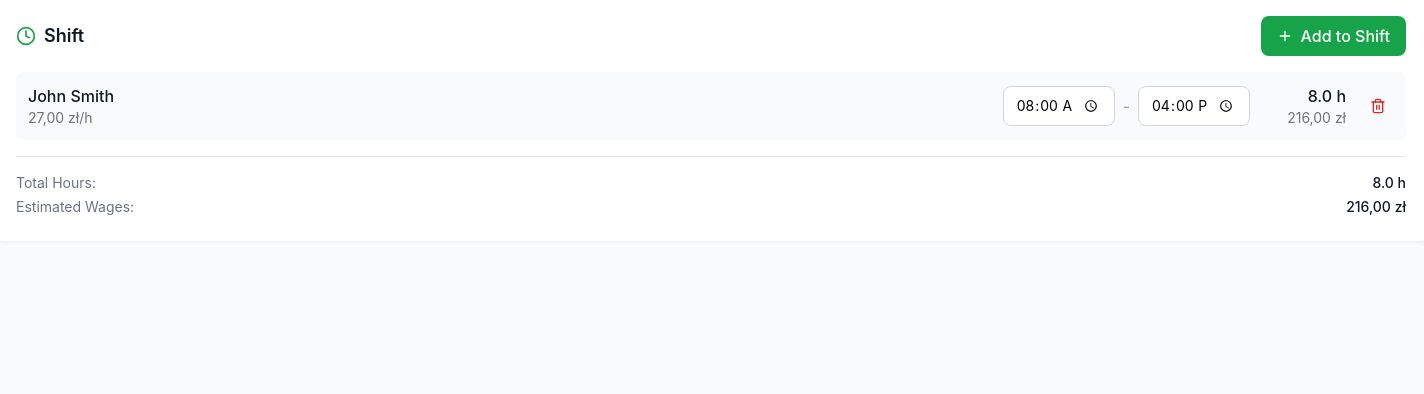
Scenario: ShiftAssignmentSection › Add Shift › closes form after successful creation
Expected: the text "John Smith" is shown, [28,84,114,108]
Click the button "Add to Shift".
click(1333, 36)  # box [1261,16,1406,56]
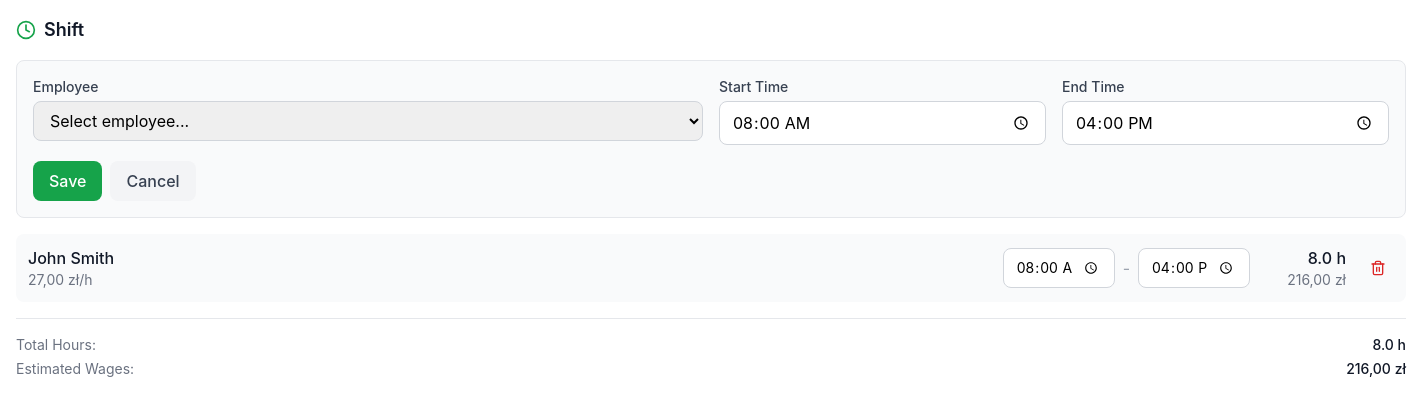
Expected: the dropdown is shown
Select "Jane Doe - Cashier" in the dropdown at (368, 121), box [33,101,703,141]
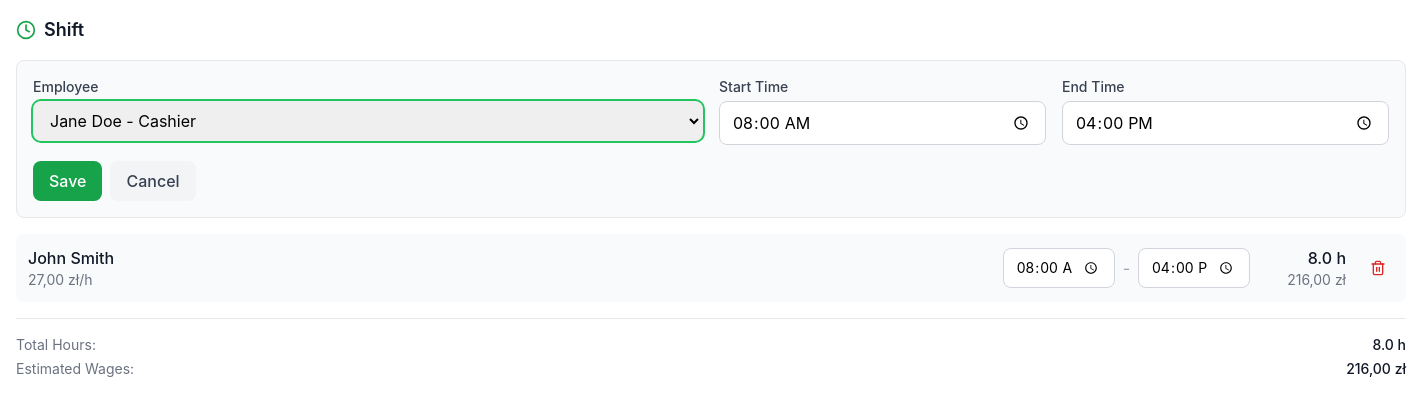
Click the button "Save".
click(68, 181)  # box [33,161,102,201]
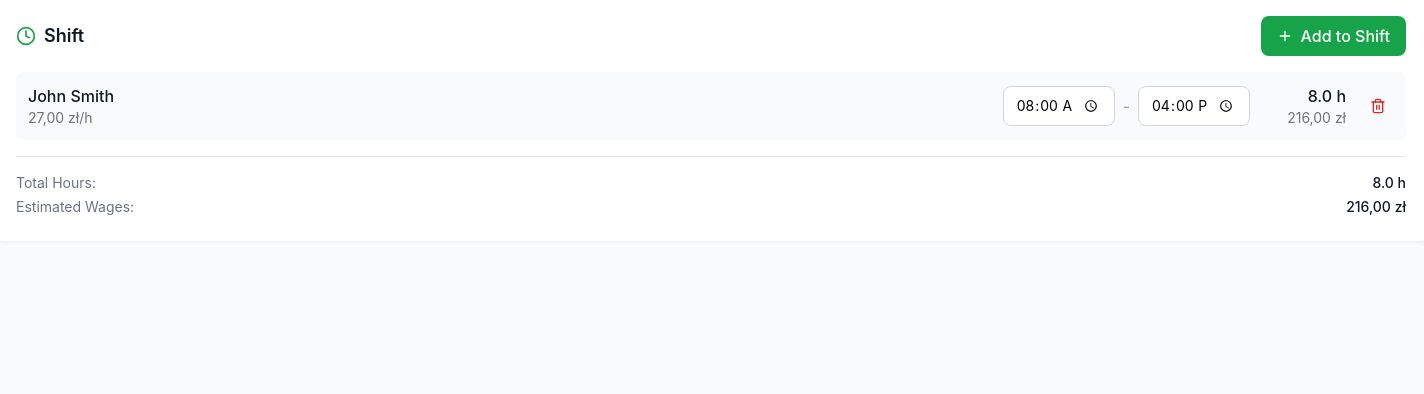
Expected: the form is gone
